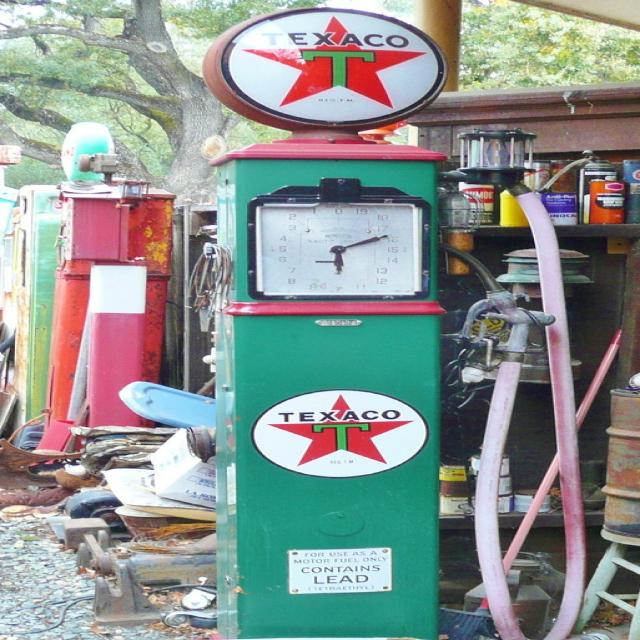texaco: (227, 11, 441, 123), (252, 391, 429, 480)
